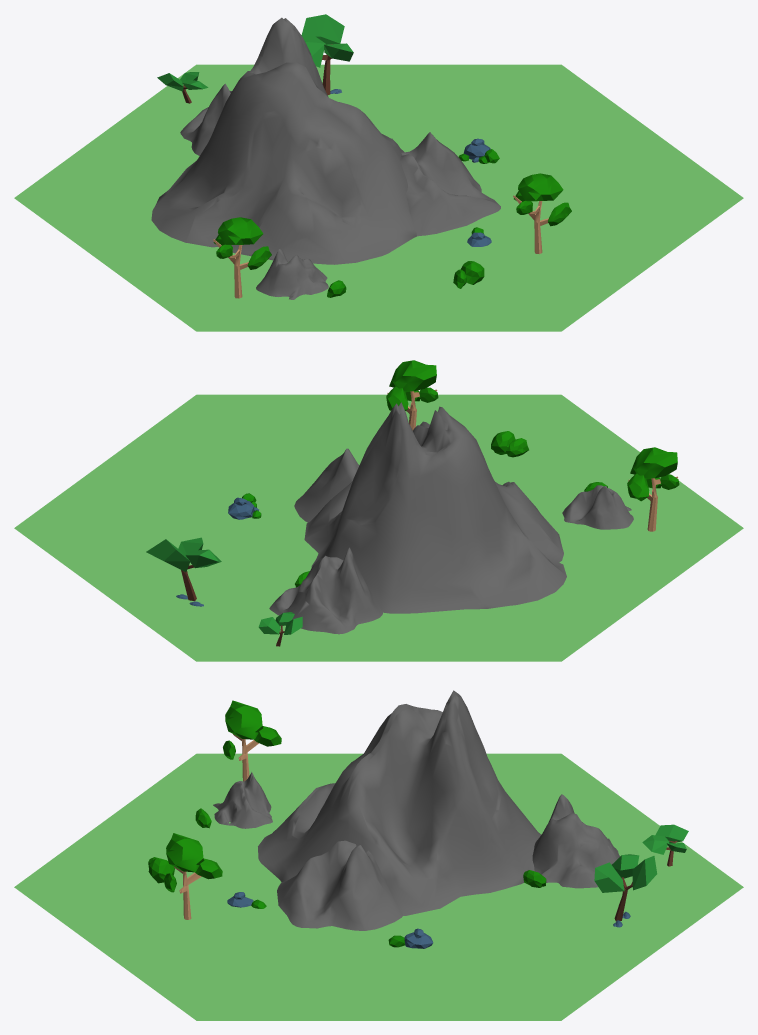
The model's file is Hexagone ressource pierre.fbx.
3 views of the same model, one above another, from view 1: azimuth 30°, elevation 25°; view 2: azimuth 150°, elevation 25°; view 3: azimuth 270°, elevation 25° (orthographic).
Visible parts, largest first — view 1: Cylinder; view 2: Cylinder; view 3: Cylinder.
Part boxes in pixels (<box>): Cylinder: <box>14,14,743,331</box>; Cylinder: <box>14,360,743,661</box>; Cylinder: <box>14,690,743,1020</box>.
Bounding box in the file's own units: 17.32 × 20 × 5.37.
